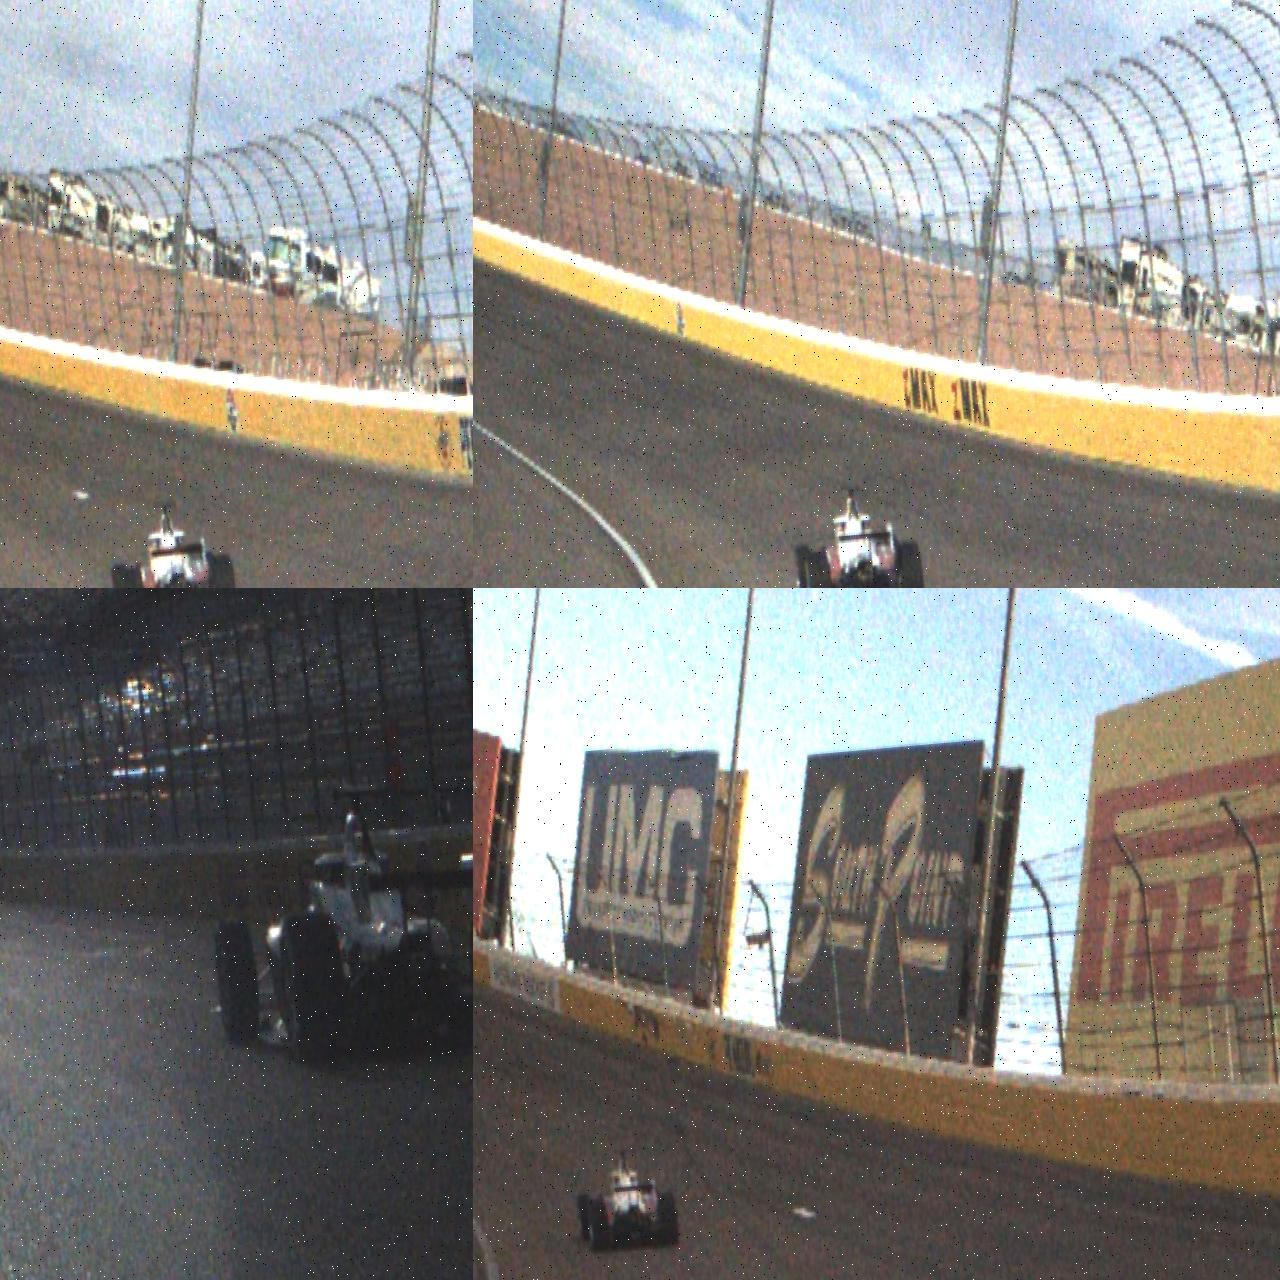AV: (193, 767, 473, 1084), (788, 478, 926, 588), (105, 494, 240, 588), (572, 1144, 680, 1254)
Wheel: (278, 911, 348, 1066), (214, 918, 262, 1046), (896, 541, 925, 588), (587, 1198, 610, 1254), (658, 1192, 681, 1246), (804, 551, 834, 588), (210, 553, 239, 588), (794, 544, 815, 588), (575, 1192, 593, 1242), (119, 568, 148, 588), (110, 562, 132, 588)
